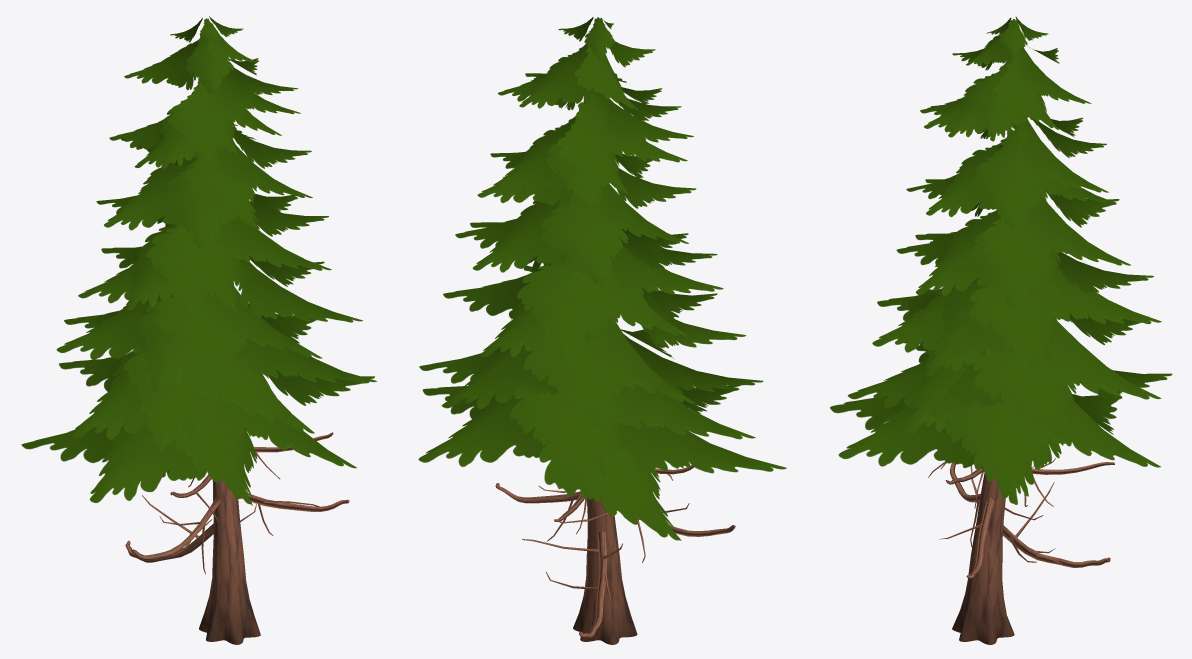
Rendered from pine-b.glb.
The picture shows the model from 3 angles, left to right: view 1: azimuth 30°, elevation 25°; view 2: azimuth 150°, elevation 25°; view 3: azimuth 270°, elevation 25°; orthographic projection. The views are drawn at different scales.
Visible parts, largest first — view 1: Pine_4; view 2: Pine_4; view 3: Pine_4.
Boxes of the visible parts, x1=… form: Pine_4: x1=21, y1=16, x2=377, y2=644; Pine_4: x1=418, y1=17, x2=786, y2=644; Pine_4: x1=830, y1=17, x2=1172, y2=644.
Bounding box in the file's own units: 5.8 × 10.24 × 5.37.
2 materials, 2 textured.
